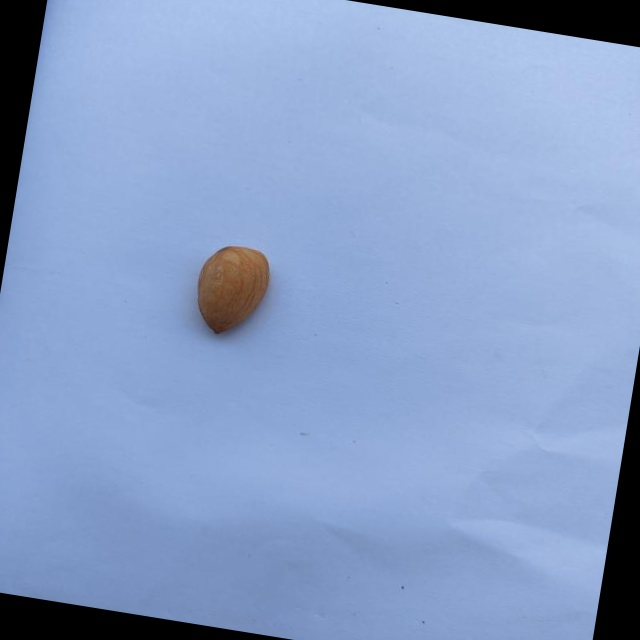grade2: (187, 237, 281, 345)
